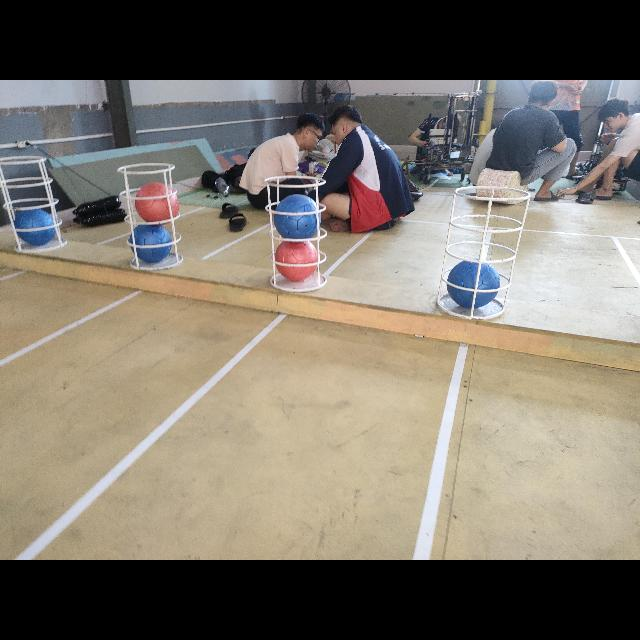B: (448, 258, 500, 308), (274, 194, 322, 240), (12, 210, 56, 246), (132, 225, 172, 263)
R: (275, 240, 319, 282), (136, 182, 178, 226)
